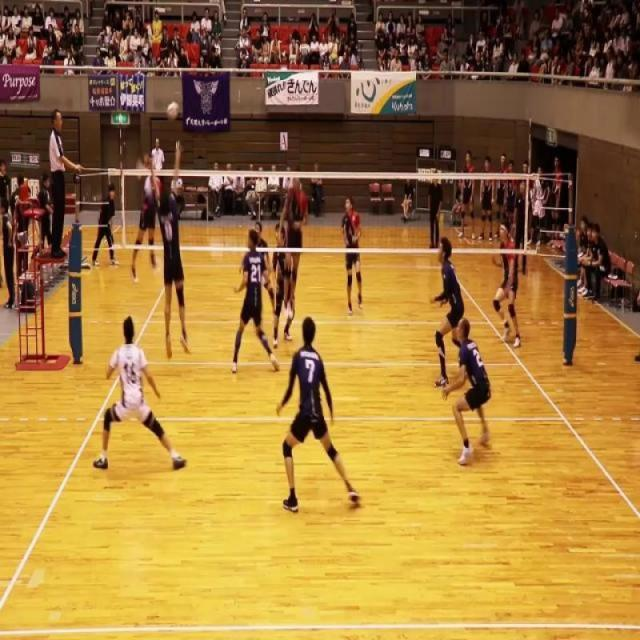volleyball: (166, 100, 180, 121)
